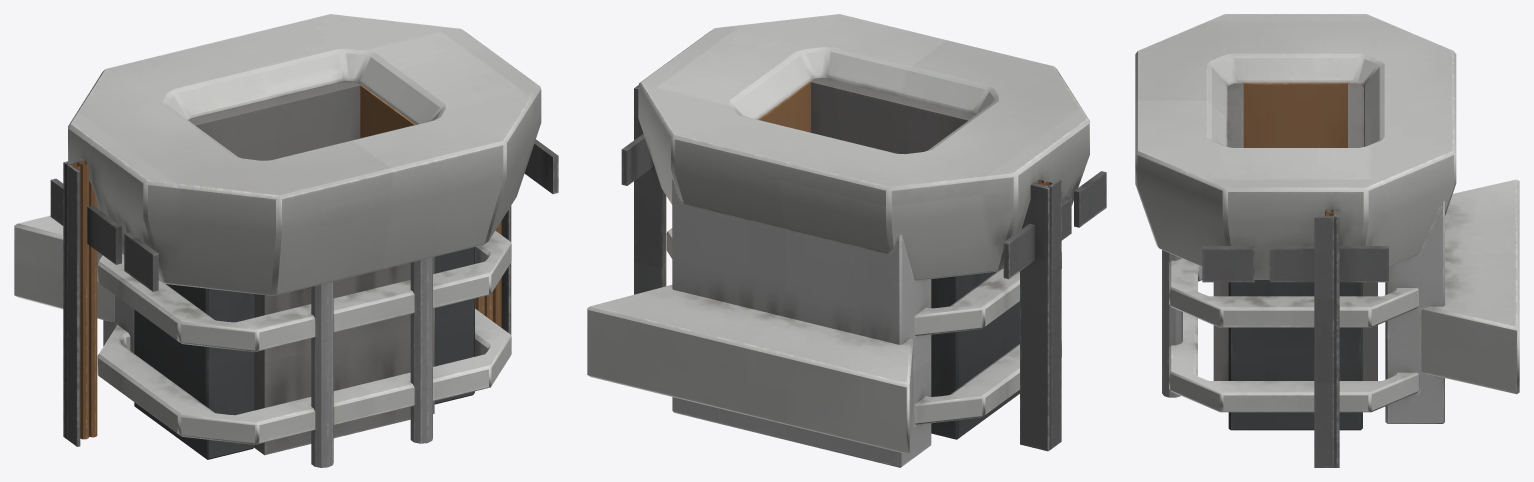
File: railgun-muzzle.glb
3 views of the same model, side by side, from view 1: azimuth 30°, elevation 25°; view 2: azimuth 150°, elevation 25°; view 3: azimuth 270°, elevation 25° (orthographic). The views are drawn at different scales.
Parts seen in each view (by area): view 1: railgun-muzzle; view 2: railgun-muzzle; view 3: railgun-muzzle.
Part boxes in pixels (x1,y1,x2,y2): railgun-muzzle: (14, 14, 558, 467); railgun-muzzle: (587, 14, 1106, 467); railgun-muzzle: (1135, 14, 1519, 467).
Bounding box in the file's own units: 6.12 × 4 × 5.15.
1 material, 1 textured.
